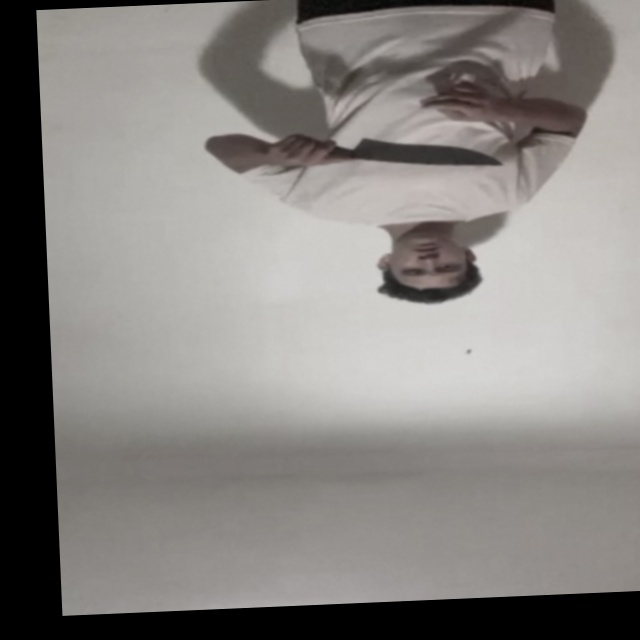Sharp-Object: (350, 134, 508, 172)
